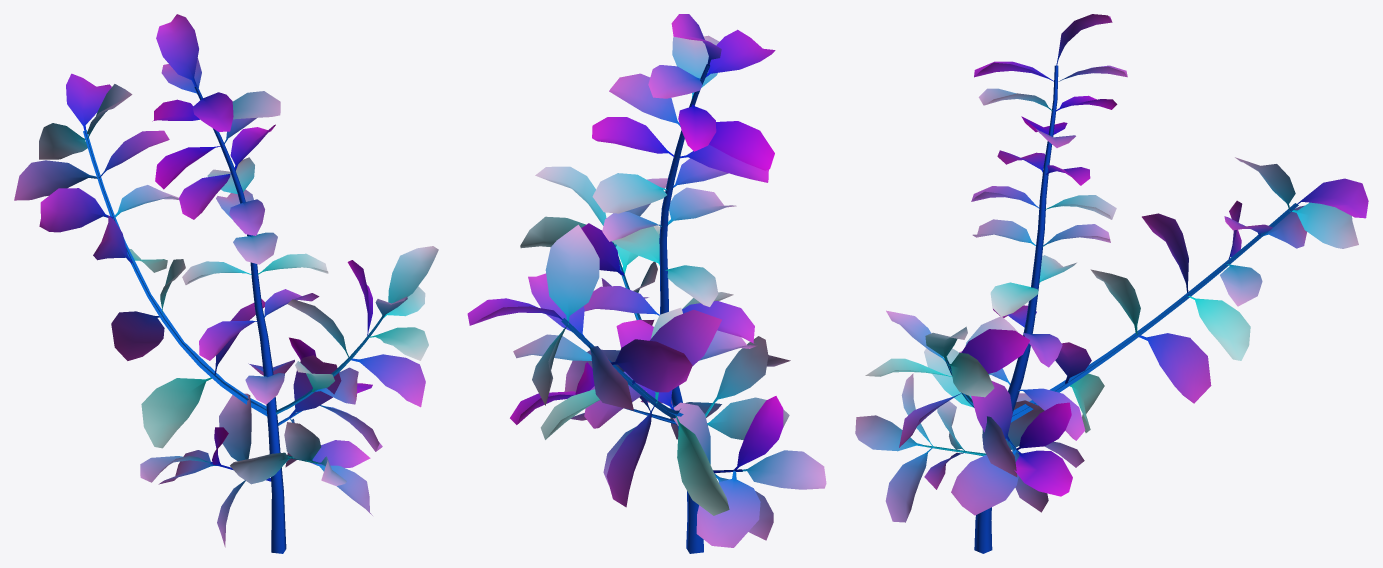
File: European_Spindle_wk1ncbxja_Mid_wk1ncbxja_VarG_LOD0.fbx
3 views of the same model, side by side, from view 1: azimuth 30°, elevation 25°; view 2: azimuth 150°, elevation 25°; view 3: azimuth 270°, elevation 25° (orthographic). The views are drawn at different scales.
Parts seen in each view (by area): view 1: _56ff_VarG_LOD1; view 2: _56ff_VarG_LOD1; view 3: _56ff_VarG_LOD1.
Part boxes in pixels (left/top/right/bottom): _56ff_VarG_LOD1: left=14, top=14, right=438, bottom=553; _56ff_VarG_LOD1: left=467, top=14, right=826, bottom=553; _56ff_VarG_LOD1: left=855, top=14, right=1368, bottom=553.
Bounding box in the file's own units: 33.97 × 60.28 × 54.29.
